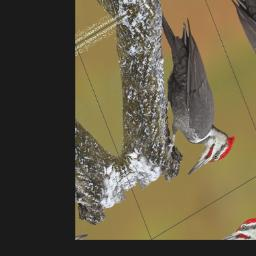Woodpecker: (119, 0, 240, 185)
